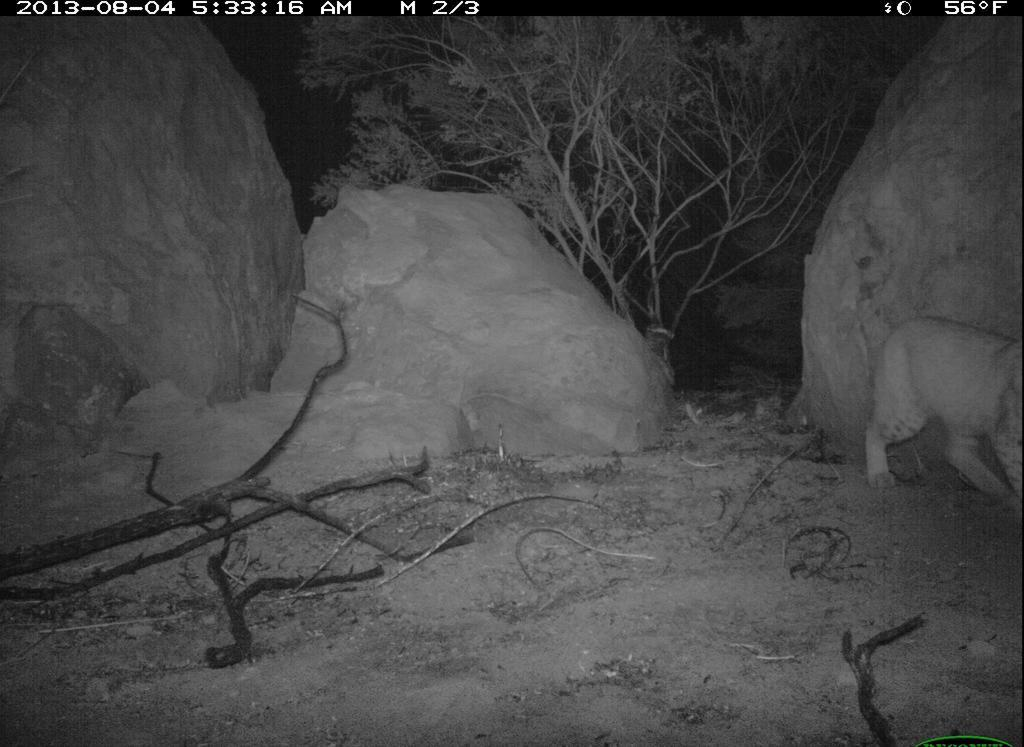bobcat: (844, 305, 1023, 506)
